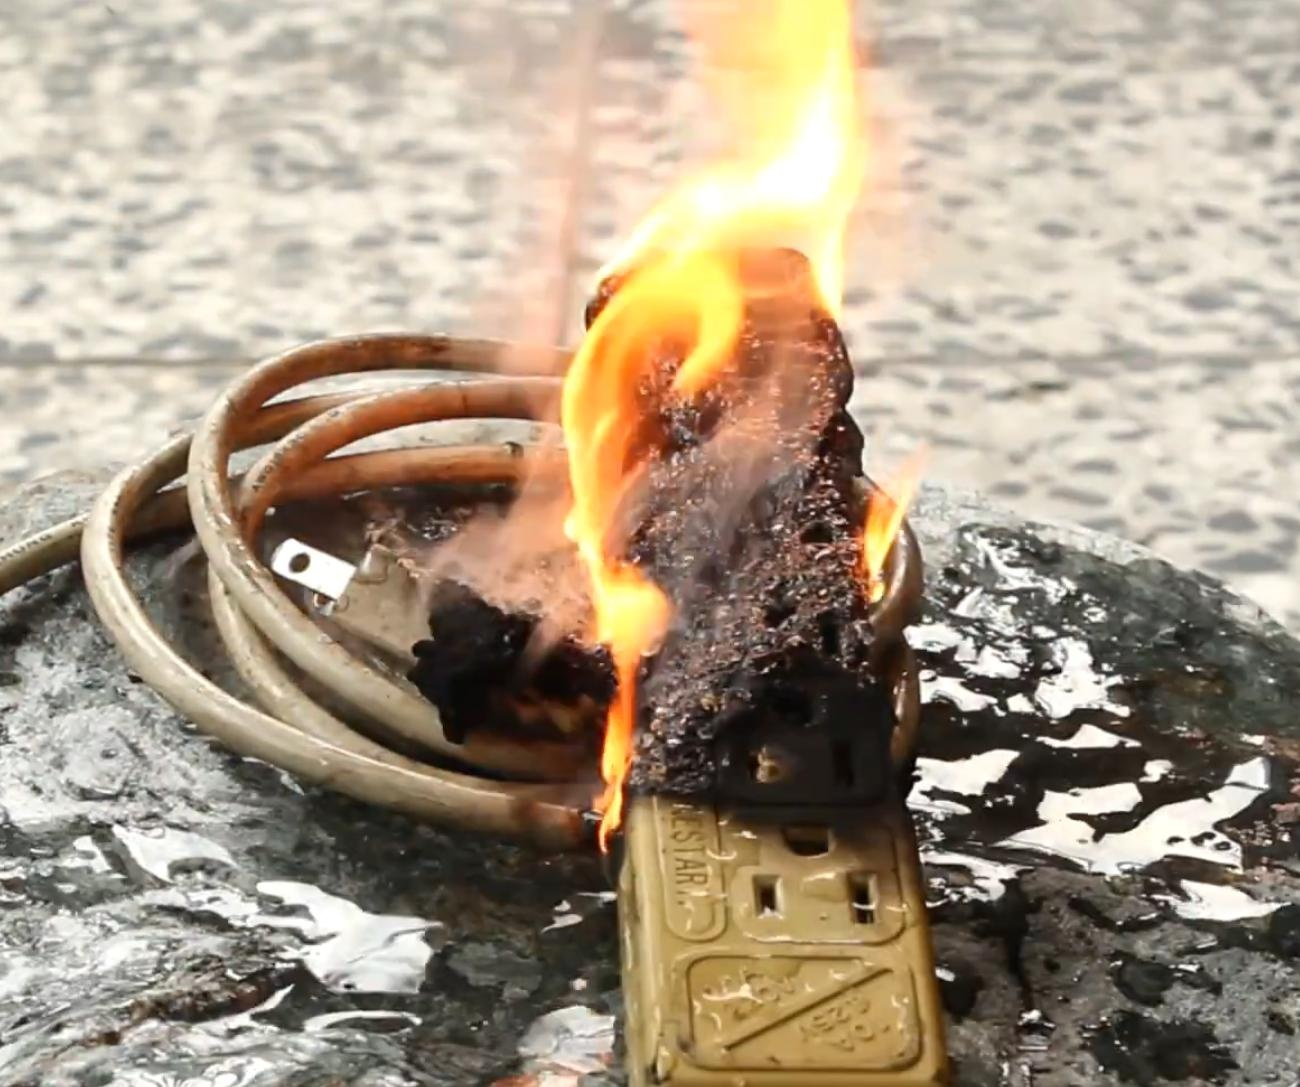fire: (533, 33, 866, 834), (853, 441, 923, 604)
